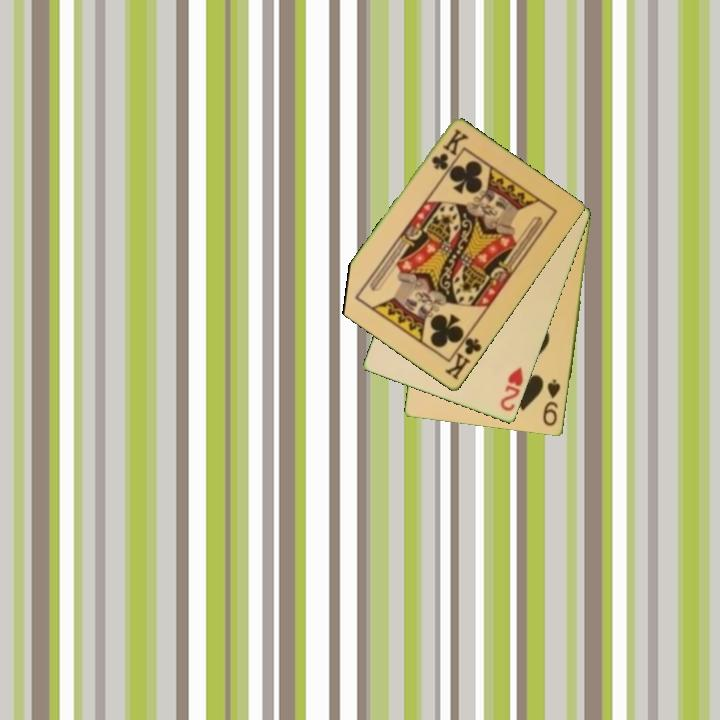2h: (497, 363, 526, 414)
9s: (540, 376, 563, 429)
Kc: (441, 328, 485, 383), (428, 126, 470, 174)
